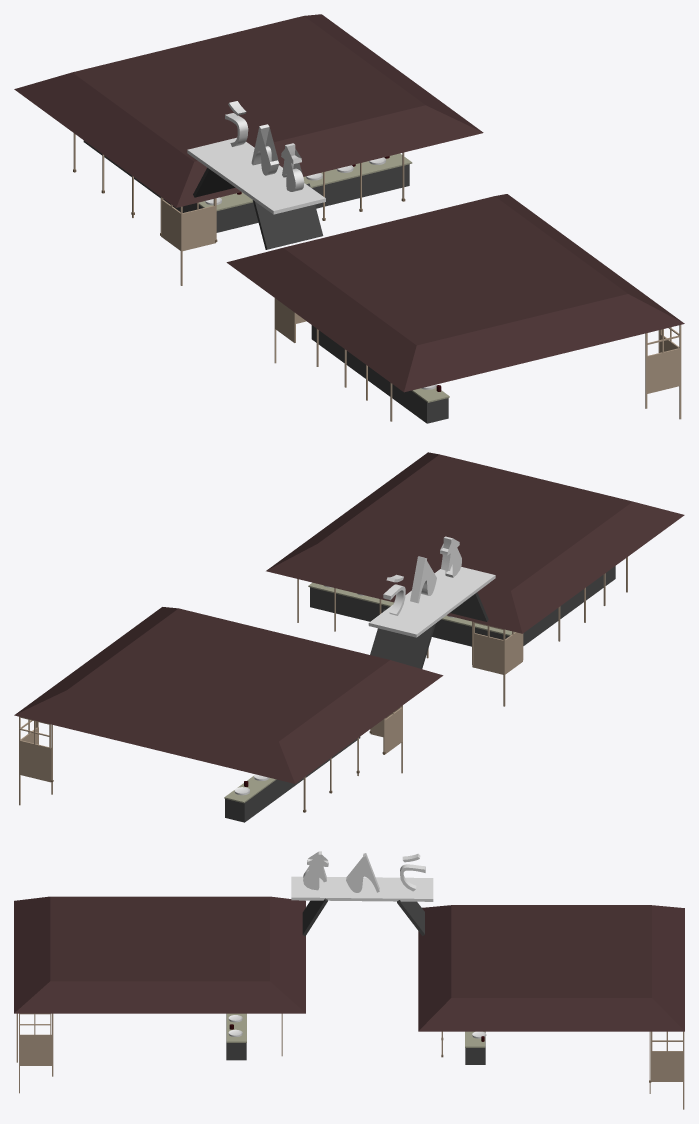
File: food court.fbx
The picture shows the model from 3 angles, top to bottom: view 1: azimuth 30°, elevation 25°; view 2: azimuth 150°, elevation 25°; view 3: azimuth 270°, elevation 25°; orthographic projection. The views are drawn at different scales.
Parts seen in each view (by area): view 1: pasted__pCube131, pasted__pCube3, pCube292, pasted__pCube43, typeMesh1, pasted__pCube136, pCube290, pCube231, pCube134, pCube311, pCube234, pCube289; view 2: pasted__pCube3, pasted__pCube131, pCube292, pasted__pCube126, typeMesh1, pCube289, pasted__pCube44, pasted__pCube136, pCube232, pCube308, pCube294, pCube234 (+2 smaller); view 3: pasted__pCube131, pasted__pCube3, pCube292, typeMesh1, pCube305, pCube228, pCube289, pCube290, pCube294, pasted__pCube126.
Boxes of the visible parts, x1=… form: pasted__pCube131: x1=226, y1=194, x2=684, y2=392; pasted__pCube3: x1=14, y1=14, x2=483, y2=207; pCube292: x1=187, y1=137, x2=325, y2=214; pasted__pCube43: x1=198, y1=164, x2=409, y2=232; typeMesh1: x1=225, y1=101, x2=304, y2=191; pasted__pCube136: x1=311, y1=325, x2=448, y2=423; pCube290: x1=252, y1=183, x2=323, y2=249; pCube231: x1=199, y1=153, x2=412, y2=210; pCube134: x1=182, y1=205, x2=215, y2=251; pCube311: x1=647, y1=348, x2=679, y2=393; pCube234: x1=161, y1=200, x2=180, y2=250; pCube289: x1=193, y1=167, x2=235, y2=197; pasted__pCube3: x1=14, y1=607, x2=443, y2=783; pasted__pCube131: x1=266, y1=452, x2=684, y2=633; pCube292: x1=368, y1=567, x2=495, y2=637; pasted__pCube126: x1=310, y1=587, x2=490, y2=646; typeMesh1: x1=383, y1=536, x2=461, y2=615; pCube289: x1=370, y1=609, x2=435, y2=668; pasted__pCube44: x1=225, y1=745, x2=348, y2=822; pasted__pCube136: x1=490, y1=566, x2=615, y2=645; pCube232: x1=20, y1=740, x2=51, y2=782; pCube308: x1=472, y1=633, x2=503, y2=674; pCube294: x1=308, y1=582, x2=493, y2=631; pCube234: x1=383, y1=707, x2=402, y2=754; pasted__pCube131: x1=14, y1=896, x2=305, y2=1013; pasted__pCube3: x1=418, y1=905, x2=684, y2=1031; pCube292: x1=291, y1=876, x2=433, y2=901; typeMesh1: x1=303, y1=851, x2=425, y2=892; pCube305: x1=20, y1=1034, x2=51, y2=1065; pCube228: x1=651, y1=1051, x2=682, y2=1081; pCube289: x1=397, y1=900, x2=424, y2=935; pCube290: x1=302, y1=898, x2=327, y2=936; pCube294: x1=226, y1=1013, x2=246, y2=1042; pasted__pCube126: x1=226, y1=1014, x2=246, y2=1060.
Bounding box in the file's own units: 97.09 × 54.63 × 211.
